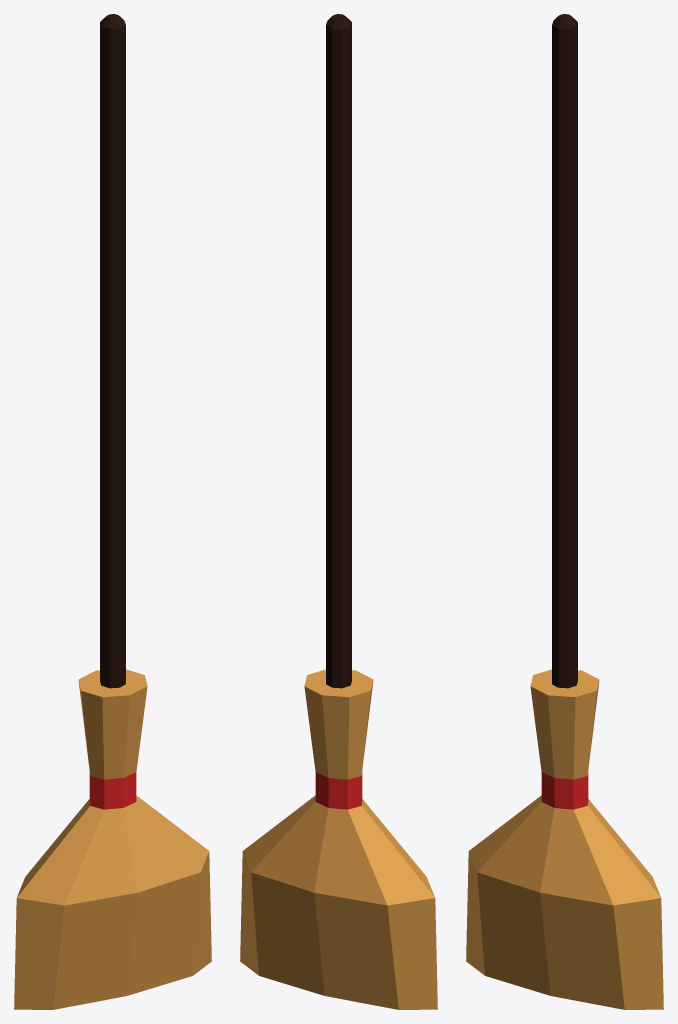
The model's file is LowPoly_Broom.fbx.
3 views of the same model, side by side, from view 1: azimuth 30°, elevation 25°; view 2: azimuth 150°, elevation 25°; view 3: azimuth 330°, elevation 25° (orthographic).
Visible parts, largest first — view 1: Straw, BroomStick; view 2: Straw, BroomStick; view 3: Straw, BroomStick.
Part boxes in pixels (box(x1,y1,x2,y2)): Straw: box(14, 669, 211, 1009); BroomStick: box(100, 14, 125, 688); Straw: box(240, 669, 437, 1009); BroomStick: box(326, 14, 351, 688); Straw: box(466, 669, 663, 1009); BroomStick: box(552, 14, 577, 688).
Bounding box in the file's own units: 34.08 × 160 × 14.8.
